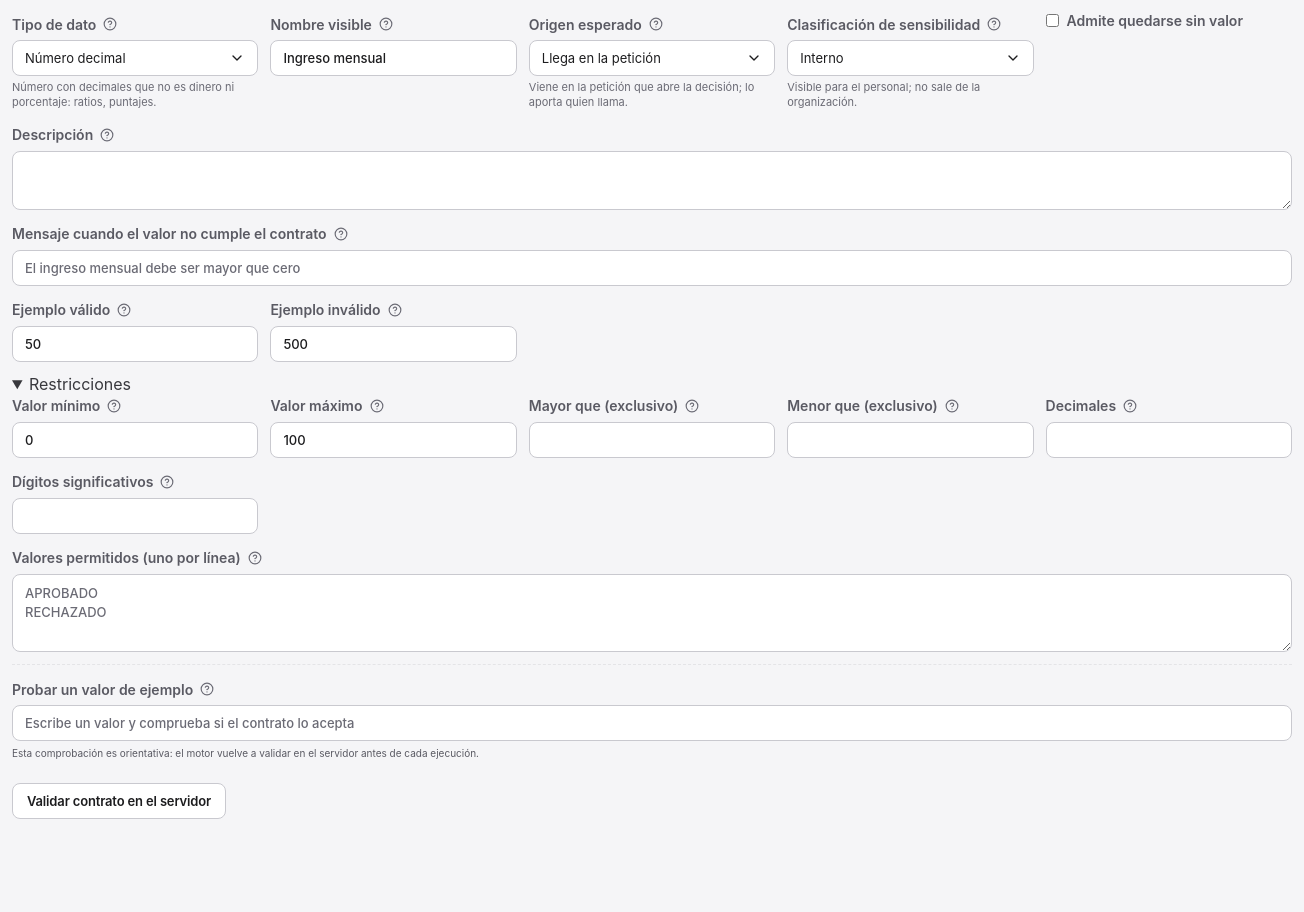
it: VariableContractEditor › muestra los incumplimientos que devuelve el servidor
Step 1. Click the button "Validar contrato en el servidor" → [119, 801], box [12, 783, 226, 819]
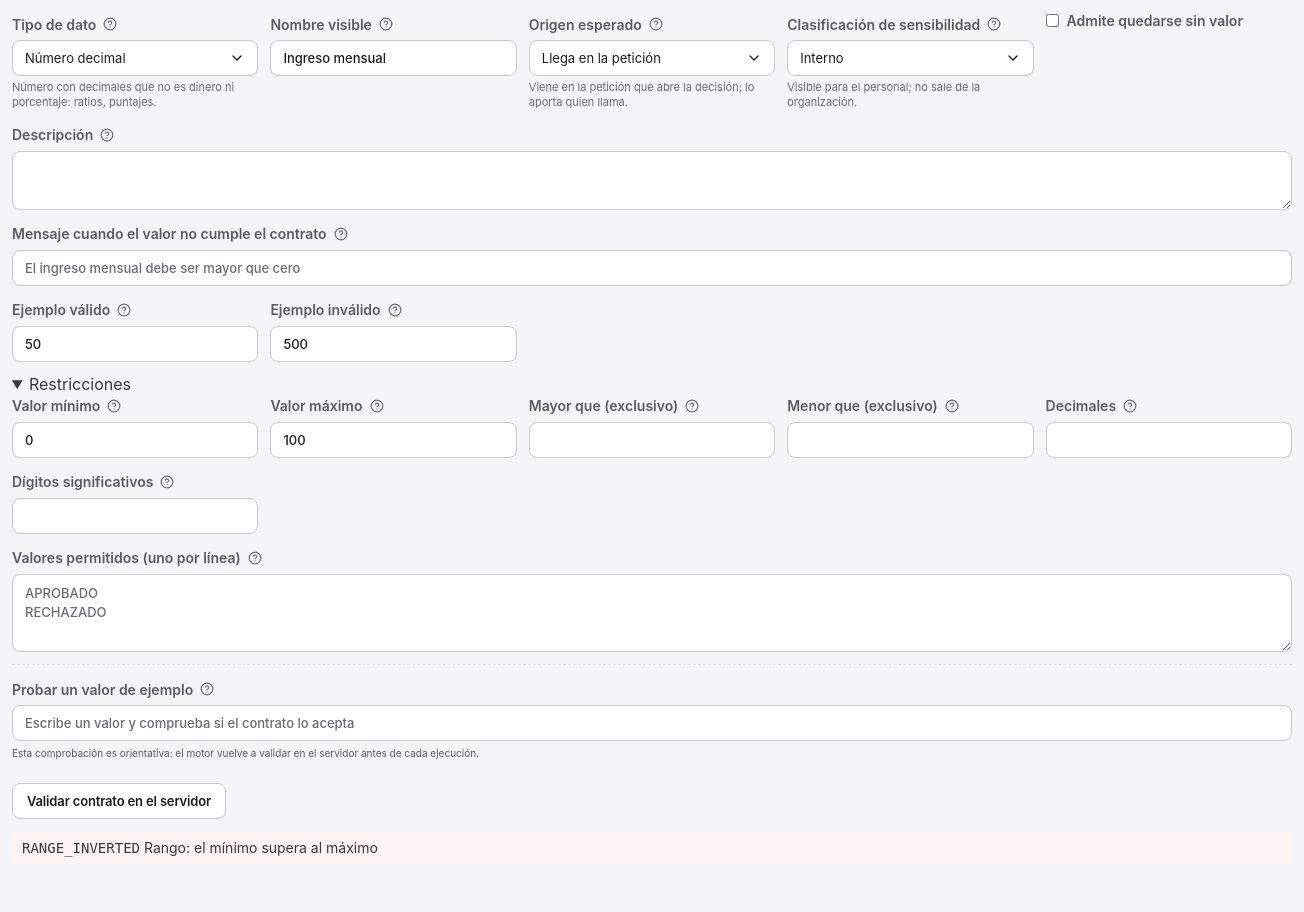
Check: the list item "RANGE_INVERTED Rango: el mínimo supera al máximo" is shown, box [22, 839, 378, 856]
